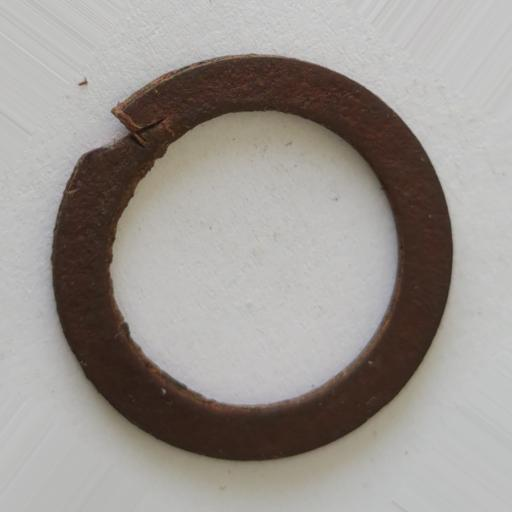defect: (83, 110, 167, 158)
